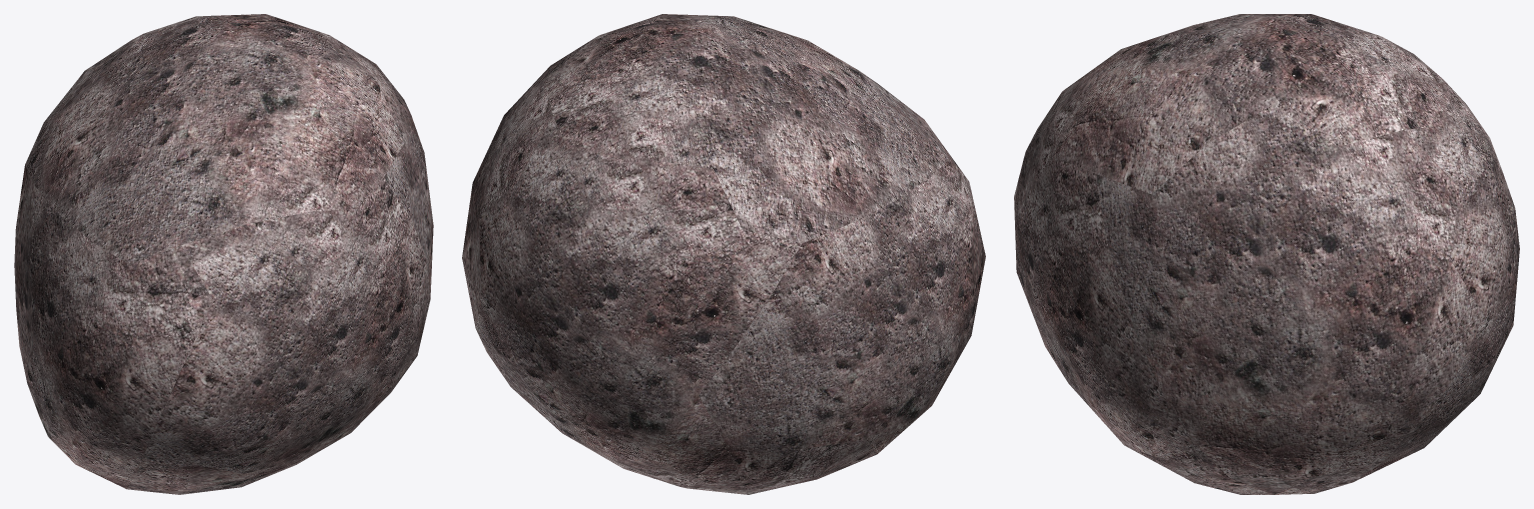
Rendered from ast_upg_04.FBX.
The picture shows the model from 3 angles, left to right: view 1: azimuth 30°, elevation 25°; view 2: azimuth 150°, elevation 25°; view 3: azimuth 270°, elevation 25°; orthographic projection. The views are drawn at different scales.
Parts seen in each view (by area): view 1: ast_upg_04; view 2: ast_upg_04; view 3: ast_upg_04.
Part boxes in pixels (left/top/right/bottom): ast_upg_04: left=14, top=14, right=433, bottom=494; ast_upg_04: left=462, top=14, right=985, bottom=494; ast_upg_04: left=1014, top=14, right=1519, bottom=494.
Bounding box in the file's own units: 76.72 × 78.38 × 76.39.
